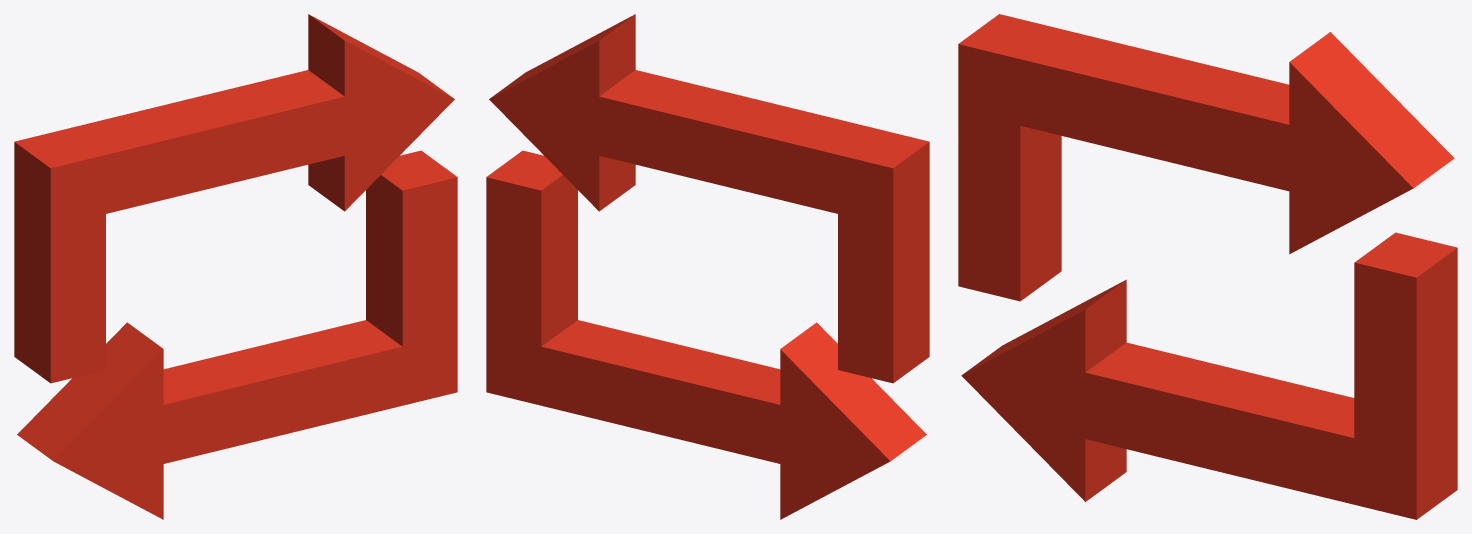
File: Icon_Arrow_11.fbx
The picture shows the model from 3 angles, left to right: view 1: azimuth 30°, elevation 25°; view 2: azimuth 150°, elevation 25°; view 3: azimuth 330°, elevation 25°; orthographic projection. The views are drawn at different scales.
Visible parts, largest first — view 1: Icon_Arrow_11; view 2: Icon_Arrow_11; view 3: Icon_Arrow_11.
Boxes of the visible parts, x1,y1,x2,y2 form: Icon_Arrow_11: (14, 14, 457, 519); Icon_Arrow_11: (486, 14, 929, 519); Icon_Arrow_11: (958, 14, 1457, 519).
Size of the model in its own units: 77.7 by 79.36 by 12.06.
